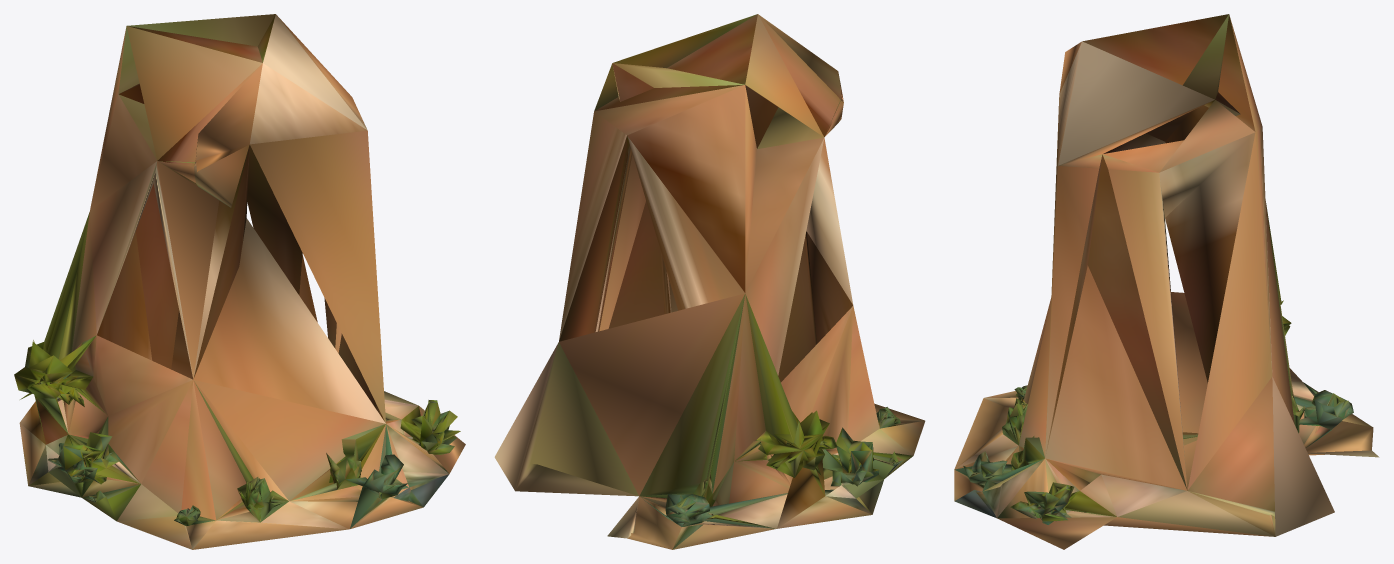
File: wpost.glb
3 views of the same model, side by side, from view 1: azimuth 30°, elevation 25°; view 2: azimuth 150°, elevation 25°; view 3: azimuth 270°, elevation 25° (orthographic).
Visible parts, largest first — view 1: wpost; view 2: wpost; view 3: wpost.
Boxes of the visible parts, x1=… form: wpost: x1=14, y1=14, x2=465, y2=549; wpost: x1=494, y1=14, x2=925, y2=549; wpost: x1=954, y1=14, x2=1379, y2=549.
Size of the model in its own units: 1.63 by 1.79 by 1.65.
Materials: 1 (1 with a texture image).
